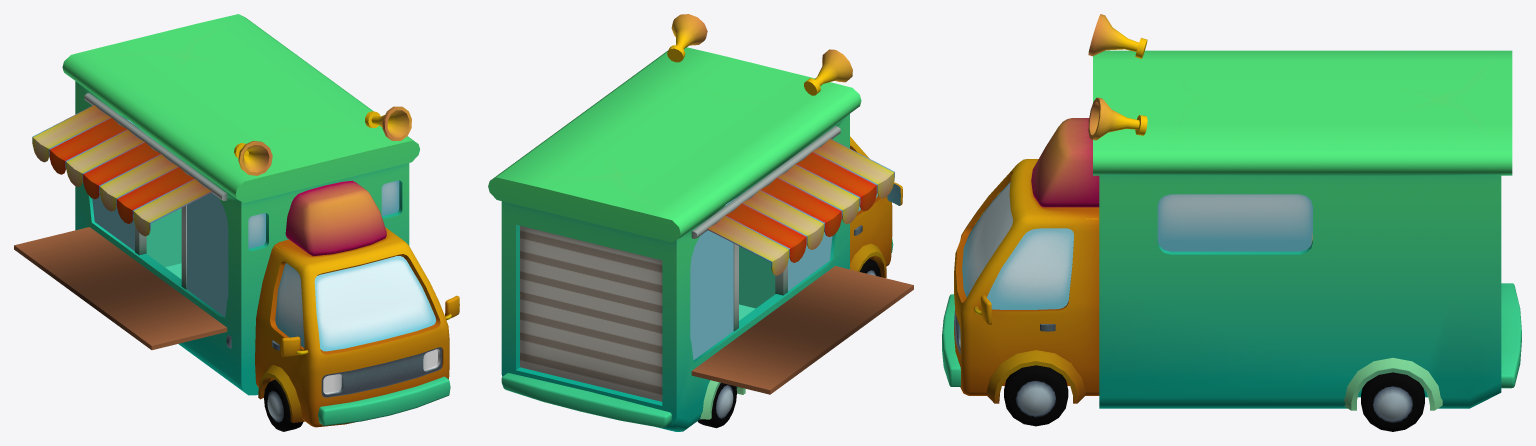
Rendered from Shop.fbx.
The picture shows the model from 3 angles, left to right: view 1: azimuth 30°, elevation 25°; view 2: azimuth 150°, elevation 25°; view 3: azimuth 270°, elevation 25°; orthographic projection. The views are drawn at different scales.
Parts seen in each view (by area): view 1: Body, Cube.001, Cube.003, Wheels, Cube; view 2: Body, Cube, Cube.002, Wheels, Cube.001; view 3: Body, Wheels.
Boxes of the visible parts, box(x1,y1,x2,y2) form: Body: box(14, 14, 459, 427); Cube.001: box(187, 192, 228, 316); Cube.003: box(146, 208, 181, 267); Wheels: box(264, 379, 303, 431); Cube: box(92, 119, 138, 250); Body: box(488, 14, 913, 431); Cube: box(690, 198, 735, 360); Cube.002: box(739, 246, 775, 308); Wheels: box(697, 258, 880, 428); Cube.001: box(788, 232, 832, 290); Body: box(942, 14, 1521, 410); Wheels: box(1004, 365, 1424, 431).
Bounding box in the file's own units: 240 × 245 × 395.
